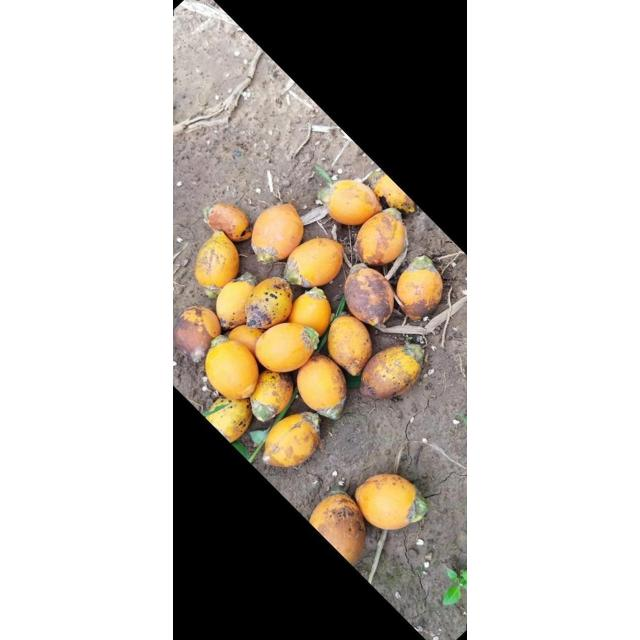good: (309, 490, 369, 566), (354, 474, 426, 530), (204, 337, 260, 399), (360, 344, 424, 398), (254, 323, 324, 372), (262, 413, 322, 467), (296, 355, 348, 417), (344, 262, 394, 326), (396, 254, 444, 320), (250, 204, 304, 262), (284, 238, 344, 288), (194, 230, 240, 294), (354, 210, 406, 266), (173, 306, 220, 364), (328, 315, 372, 375), (244, 277, 292, 329), (250, 368, 294, 422), (329, 180, 381, 224), (289, 288, 333, 340), (204, 396, 252, 442), (216, 276, 256, 328), (370, 172, 416, 215), (204, 204, 252, 242), (229, 325, 265, 357)
